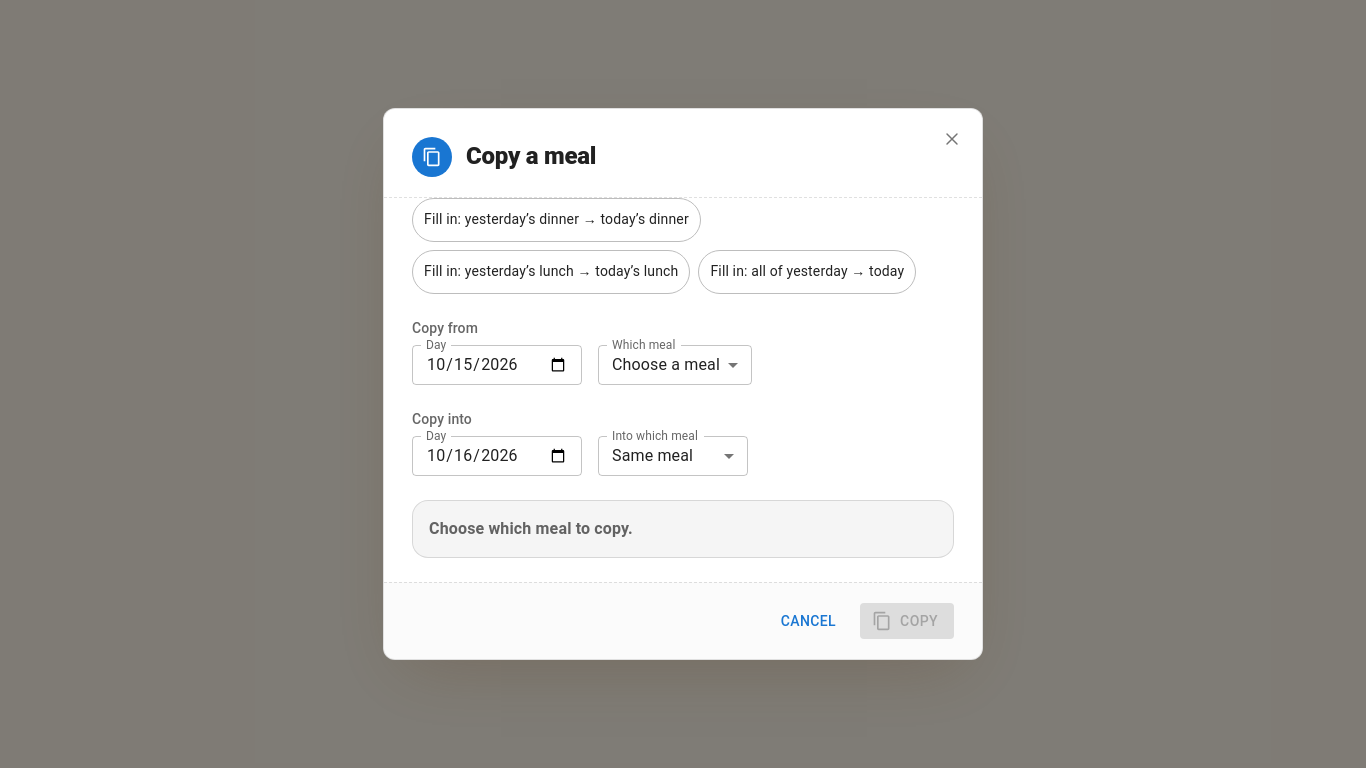
Scenario: Copy a meal — no copy without a chosen meal › "Whole day" is an option you pick, and the summary says so
The image size is (1366, 768).
Press the mouse on the dropdown named "Which meal" at (666, 365), box x1=612 y1=355 x2=720 y2=374
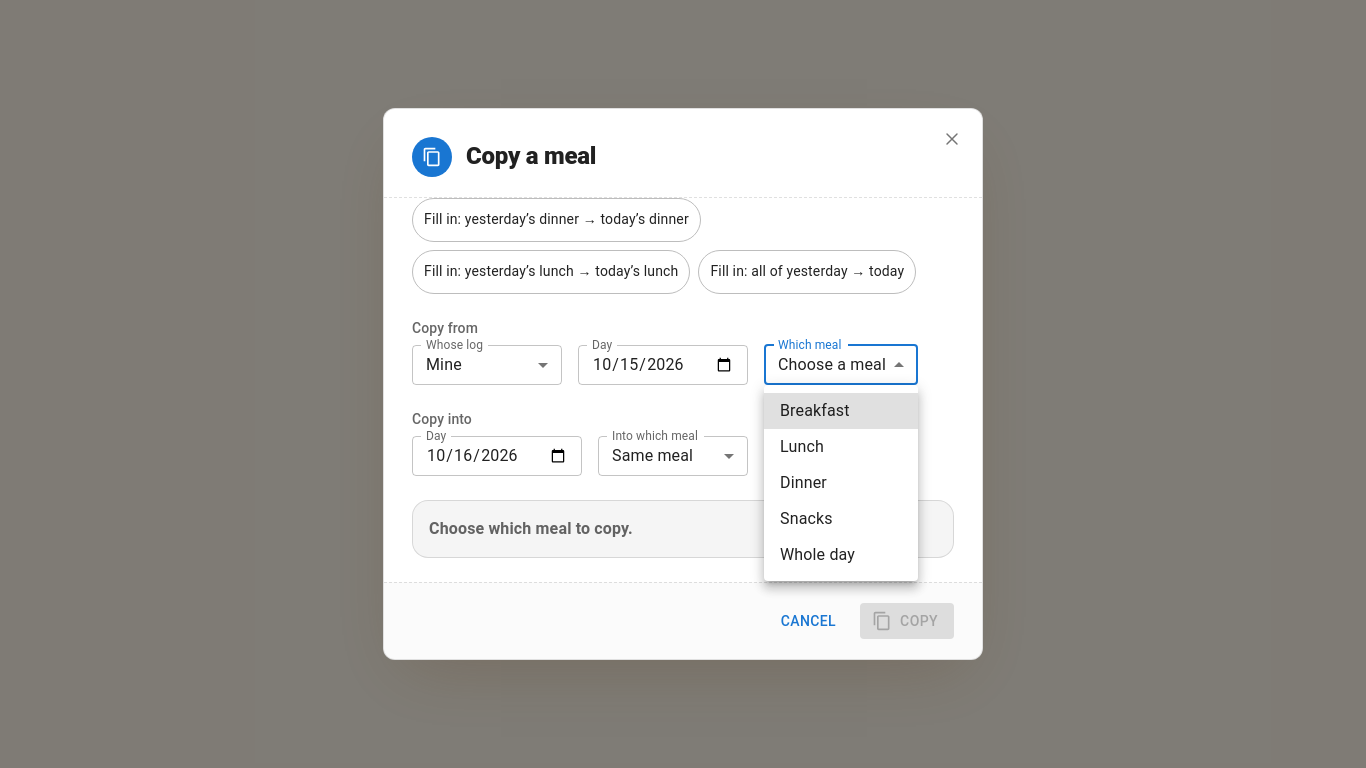
Click the option "Whole day" at (818, 554), box x1=780 y1=545 x2=855 y2=564
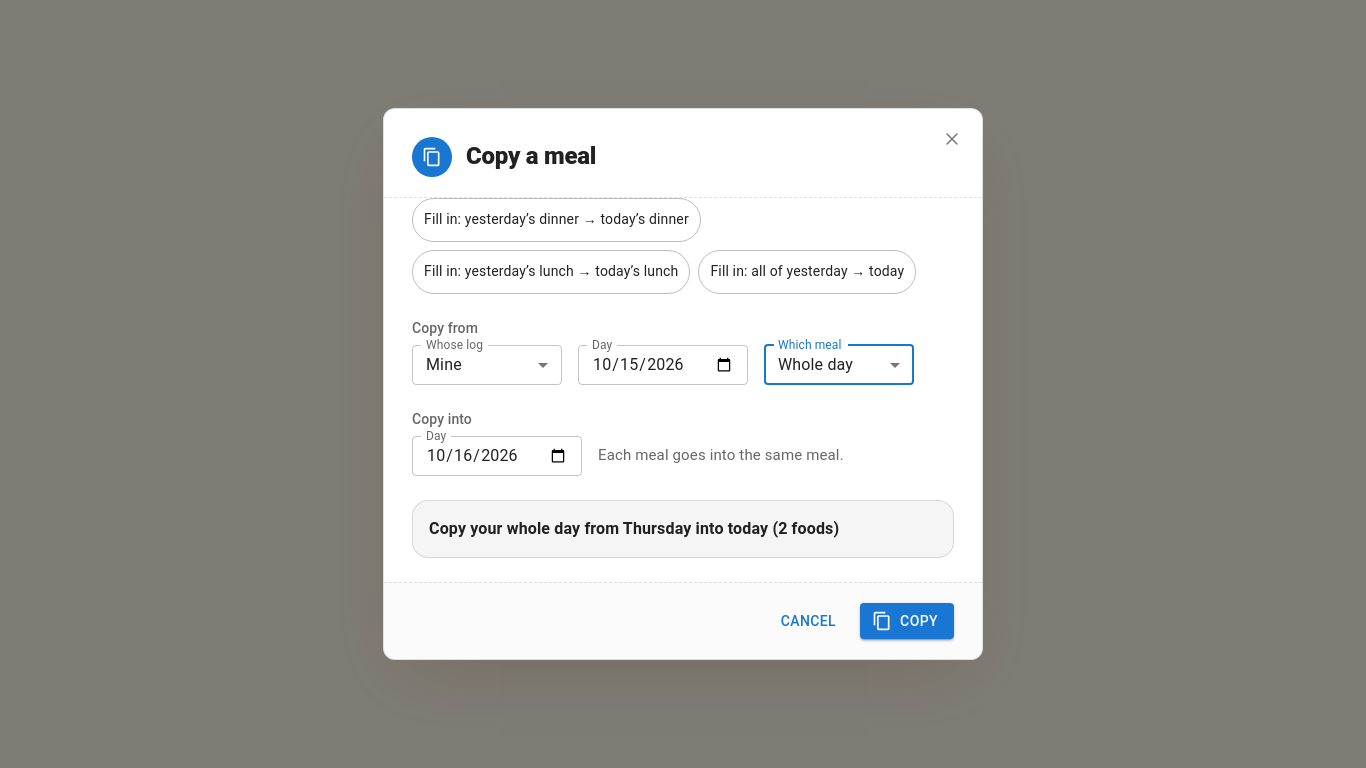
Expected: the message with test id "copy-summary" reads "Copy your whole day from Thursday into today (2 foods)", x1=429 y1=519 x2=839 y2=538
